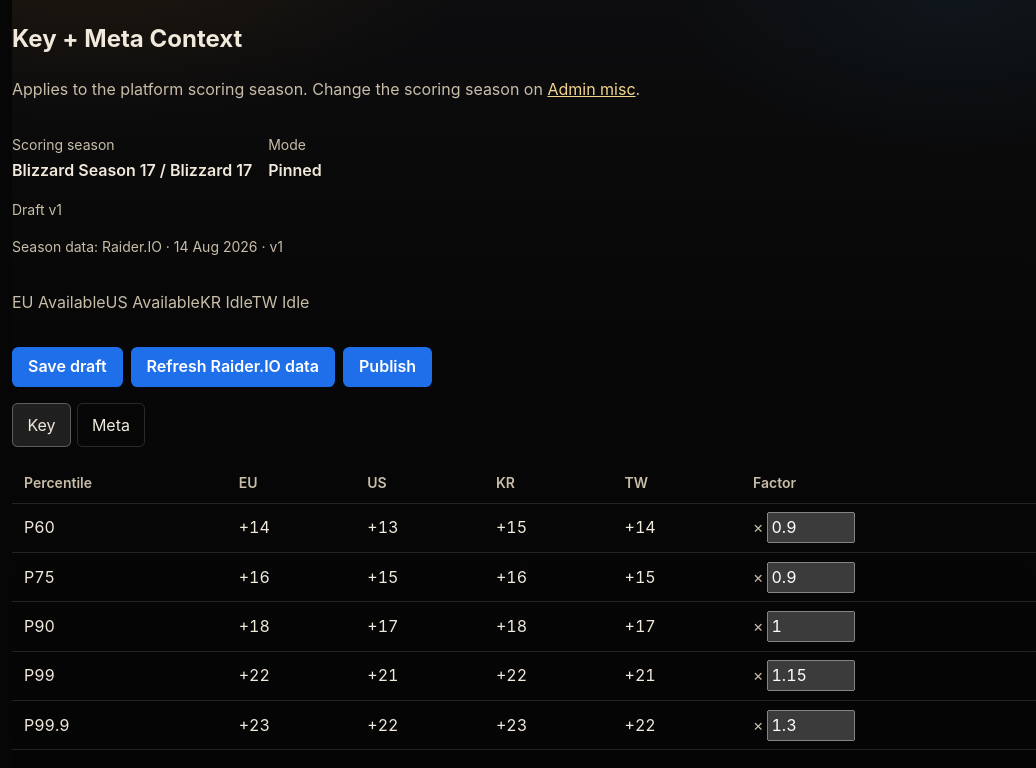
Scenario: AdminScoreContextPage › Meta tab lists every canonical spec once across tiers plus Unassigned
The width and height of the screenshot is (1036, 768).
Click the button with test id "tab-meta" at (111, 425), box [76,403,145,447]
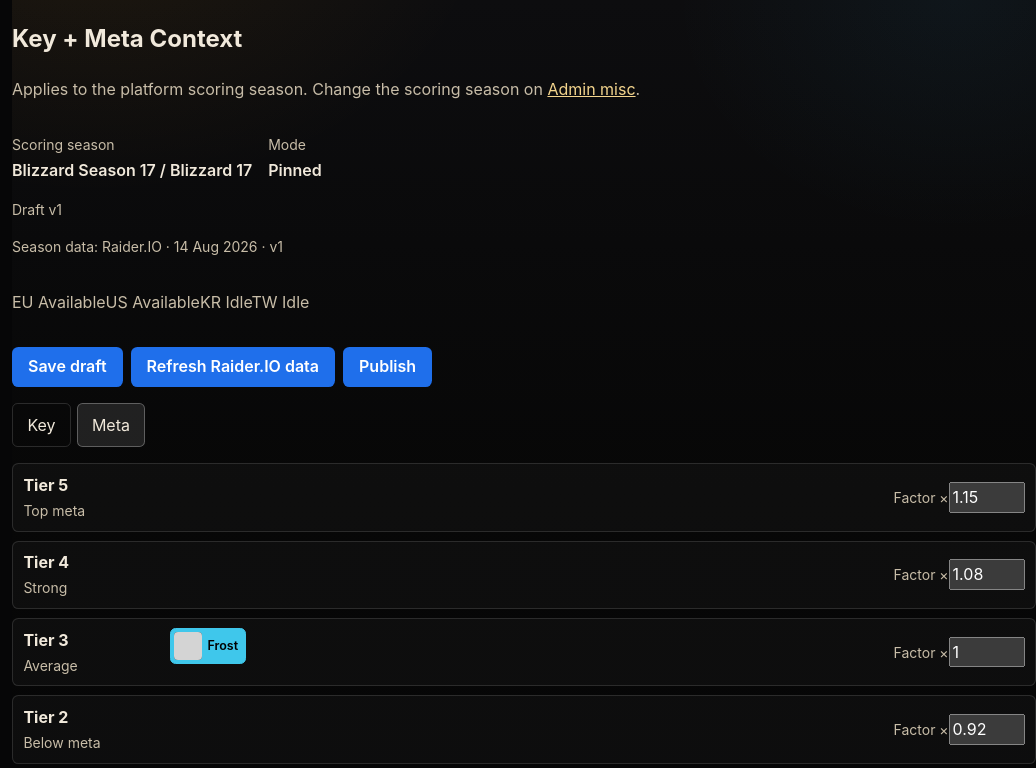
expect the element with test id "meta-tier-5" is shown: met, box [12,463,1035,532]
expect the element with test id "spec-mage-frost" is shown: met, box [170,628,246,664]
